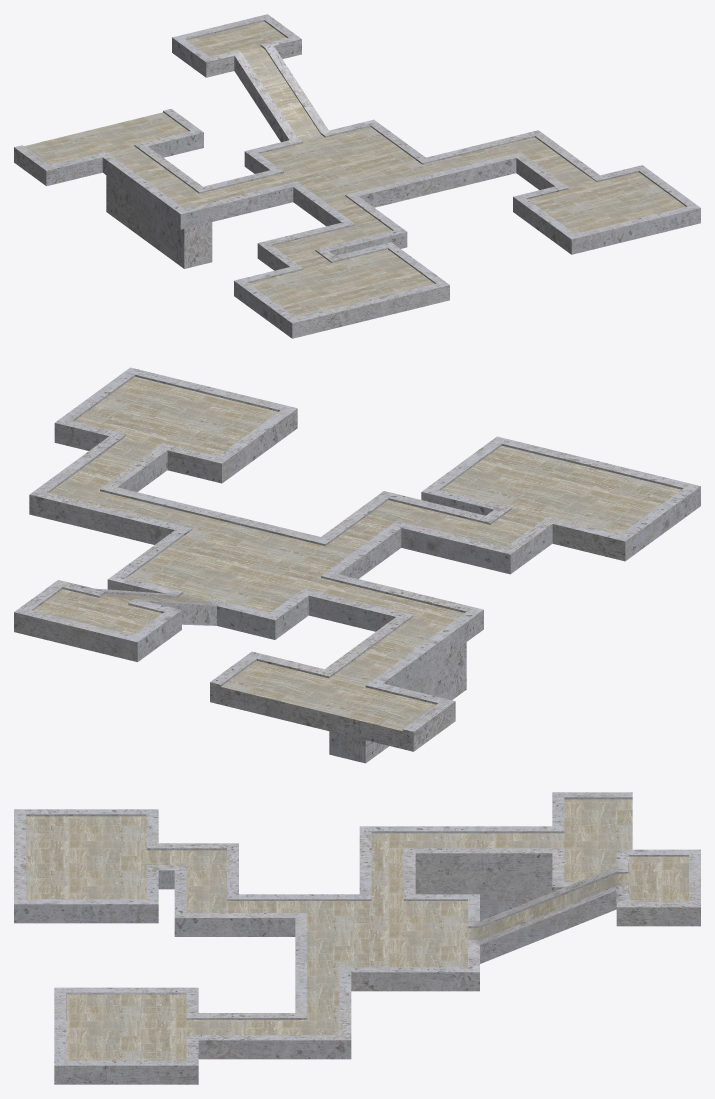
The model's file is stage.fbx.
3 views of the same model, one above another, from view 1: azimuth 30°, elevation 25°; view 2: azimuth 150°, elevation 25°; view 3: azimuth 270°, elevation 25° (orthographic). The views are drawn at different scales.
Visible parts, largest first — view 1: stage; view 2: stage; view 3: stage.
Part boxes in pixels (left/top/right/bottom): stage: left=14, top=14, right=700, bottom=338; stage: left=14, top=367, right=700, bottom=763; stage: left=14, top=792, right=700, bottom=1084.
Bounding box in the file's own units: 16100 × 3550 × 17100.
3 materials, 3 textured.
